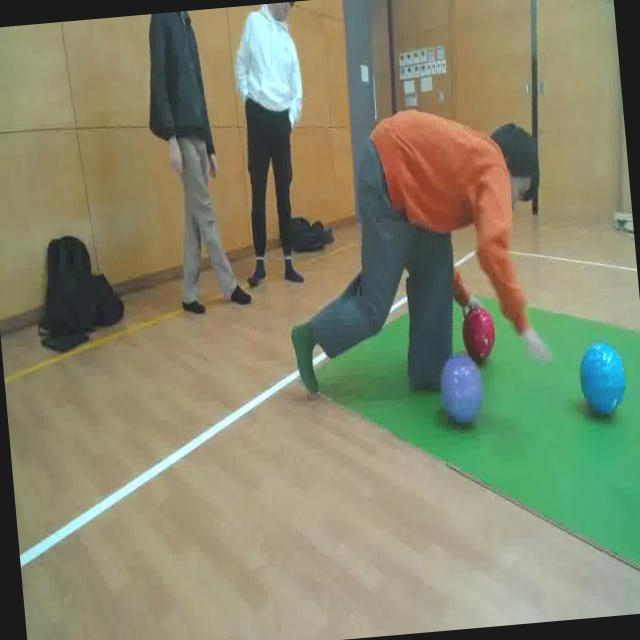blue_ball: (574, 331, 640, 429)
purple_ball: (441, 348, 488, 422)
red_ball: (457, 292, 504, 376)
